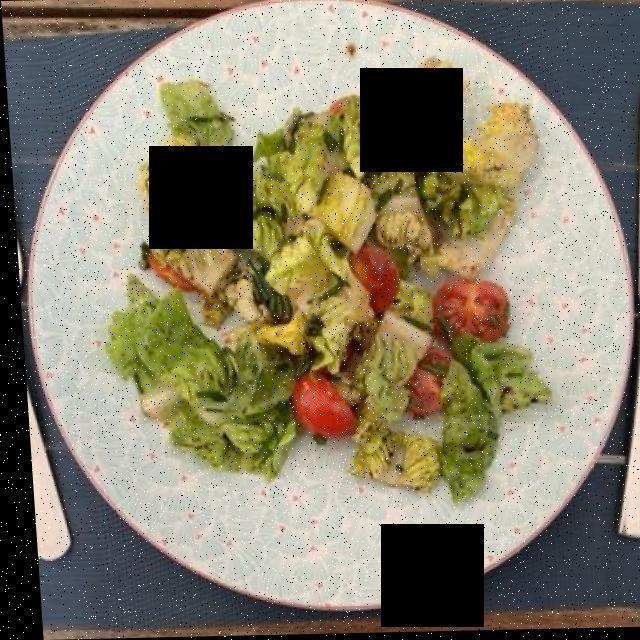salad: (100, 72, 532, 485)
tomato: (286, 237, 525, 443)
